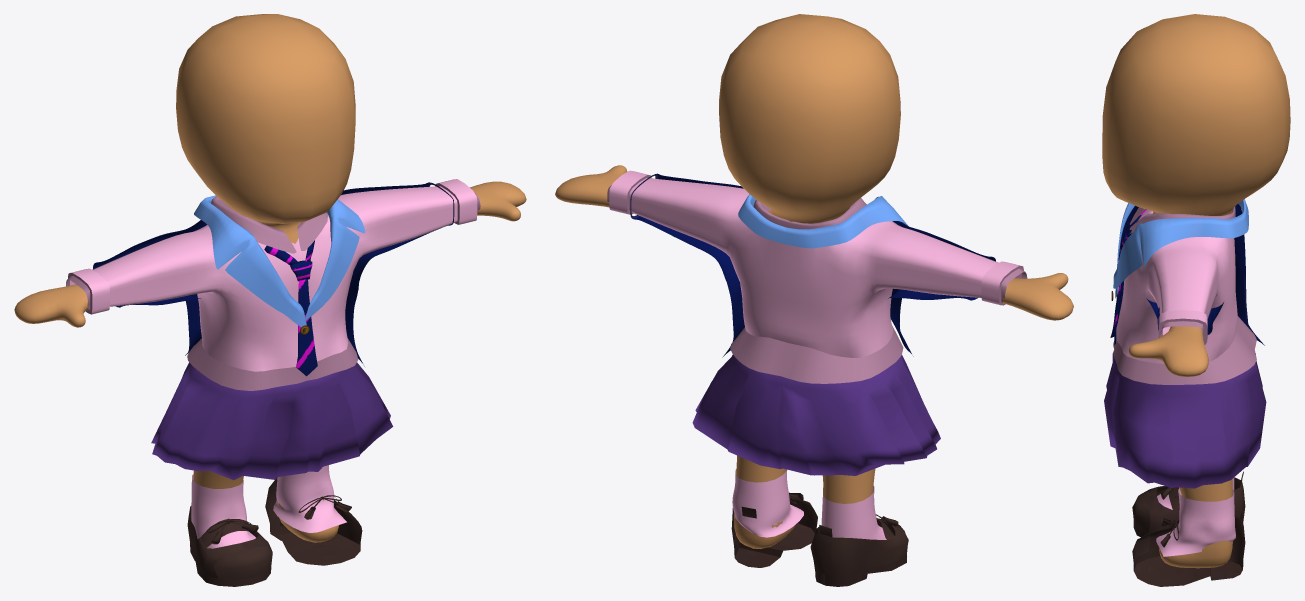
The model's file is Persona x.fbx.
3 renders of one model, left to right at view 1: azimuth 30°, elevation 25°; view 2: azimuth 150°, elevation 25°; view 3: azimuth 270°, elevation 25°, orthographic.
Parts seen in each view (by area): view 1: cuerpo base, camisa, pollera, zapas, cuello saco, medias, camisa.004, saco, camisa.001, corbata; view 2: cuerpo base, camisa, pollera, zapas, camisa.004, medias, cuello saco, saco, camisa.001; view 3: cuerpo base, pollera, camisa, zapas, cuello saco, camisa.004, medias, saco, camisa.001, corbata, camisa.002, camisa.003.
Boxes of the visible parts, <box> form: cuerpo base: <box>14,14,526,548</box>; camisa: <box>69,179,477,371</box>; pollera: <box>151,362,393,480</box>; zapas: <box>187,477,362,586</box>; cuello saco: <box>194,195,365,327</box>; medias: <box>191,465,346,548</box>; camisa.004: <box>187,338,358,390</box>; saco: <box>93,182,454,366</box>; camisa.001: <box>211,196,327,253</box>; corbata: <box>264,240,317,376</box>; cuerpo base: <box>555,14,1073,548</box>; camisa: <box>609,170,1021,357</box>; pollera: <box>692,354,940,475</box>; zapas: <box>731,492,908,586</box>; camisa.004: <box>730,326,903,383</box>; medias: <box>732,469,886,539</box>; cuello saco: <box>738,194,907,248</box>; saco: <box>630,173,995,357</box>; camisa.001: <box>753,198,866,229</box>; cuerpo base: <box>1102,14,1290,568</box>; pollera: <box>1104,351,1266,488</box>; camisa: <box>1116,210,1237,364</box>; zapas: <box>1132,471,1245,586</box>; cuello saco: <box>1113,199,1248,297</box>; camisa.004: <box>1113,316,1256,384</box>; medias: <box>1156,477,1235,556</box>; saco: <box>1110,204,1264,345</box>; camisa.001: <box>1129,206,1235,230</box>; corbata: <box>1114,209,1147,345</box>; camisa.002: <box>1158,318,1207,344</box>; camisa.003: <box>1159,321,1203,339</box>.
Size of the model in its own units: 756 by 756 by 245.
